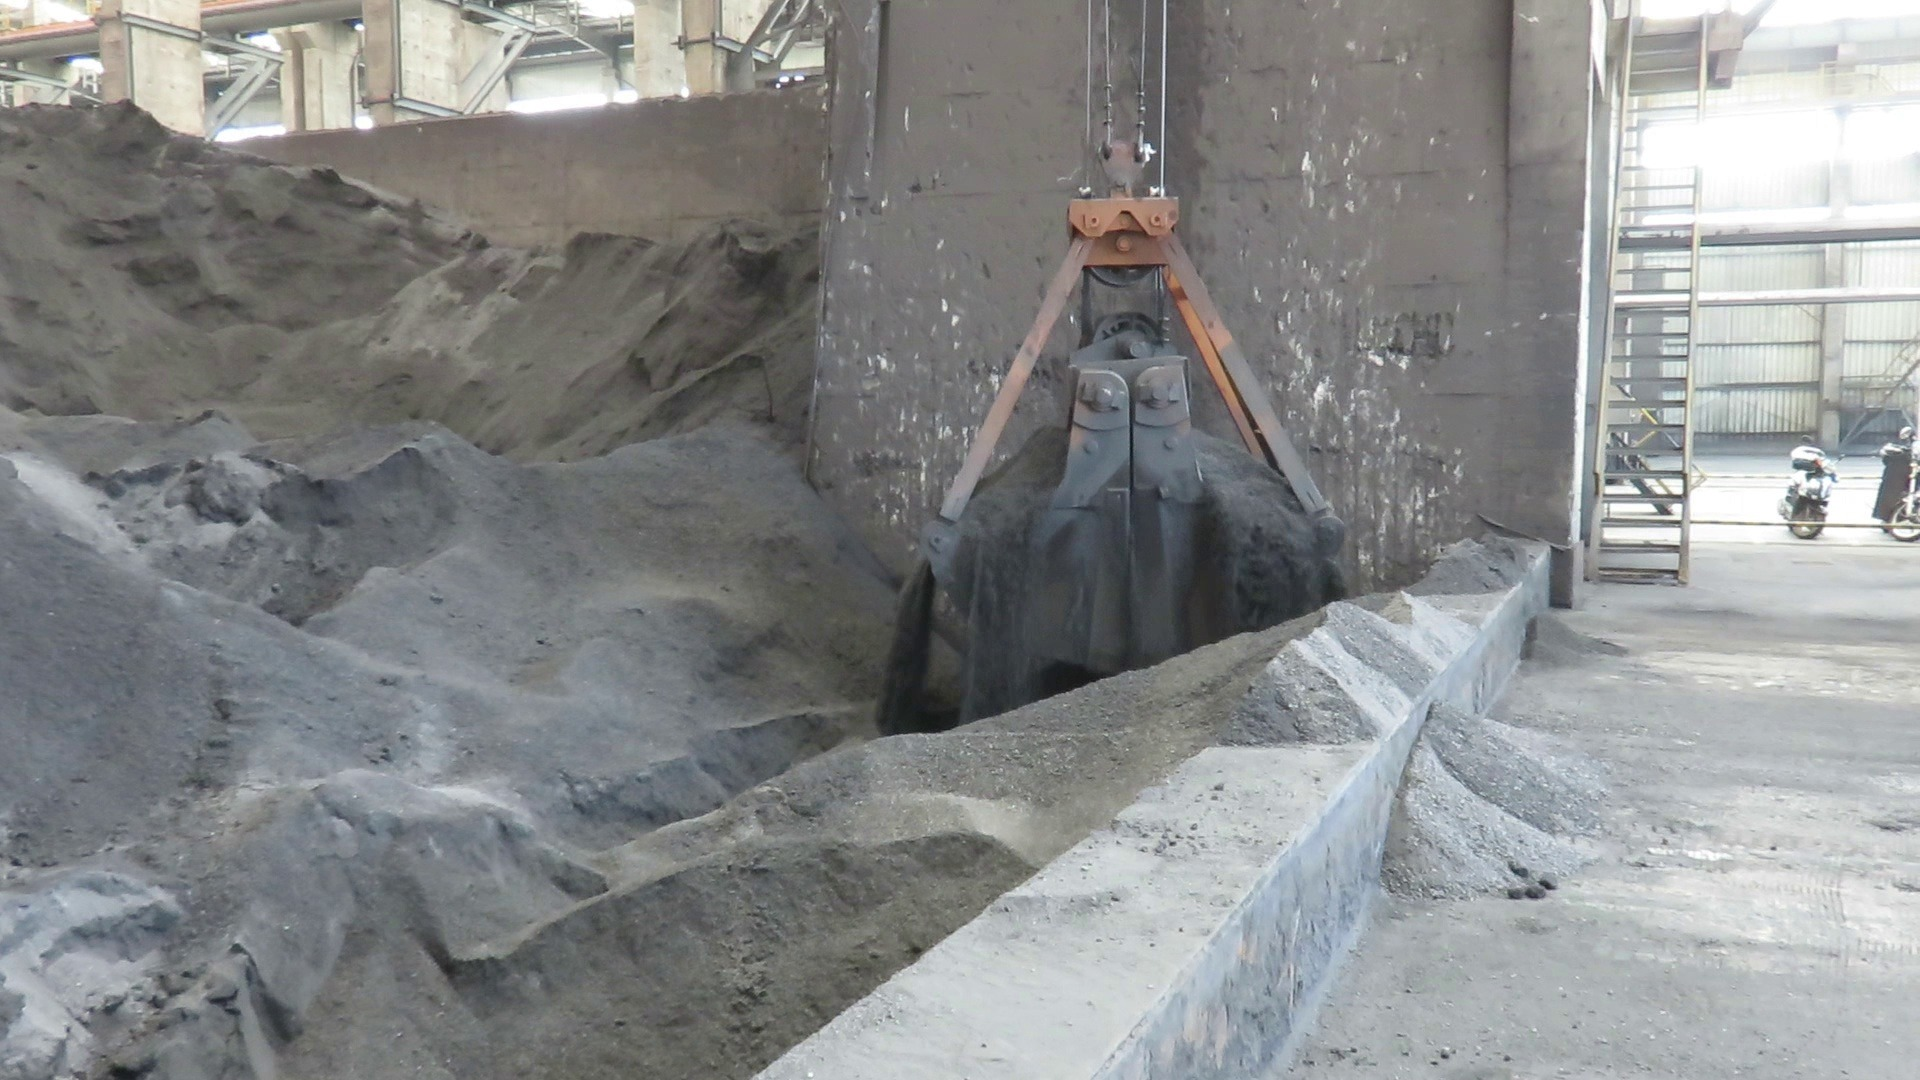grab: (891, 165, 1364, 717)
